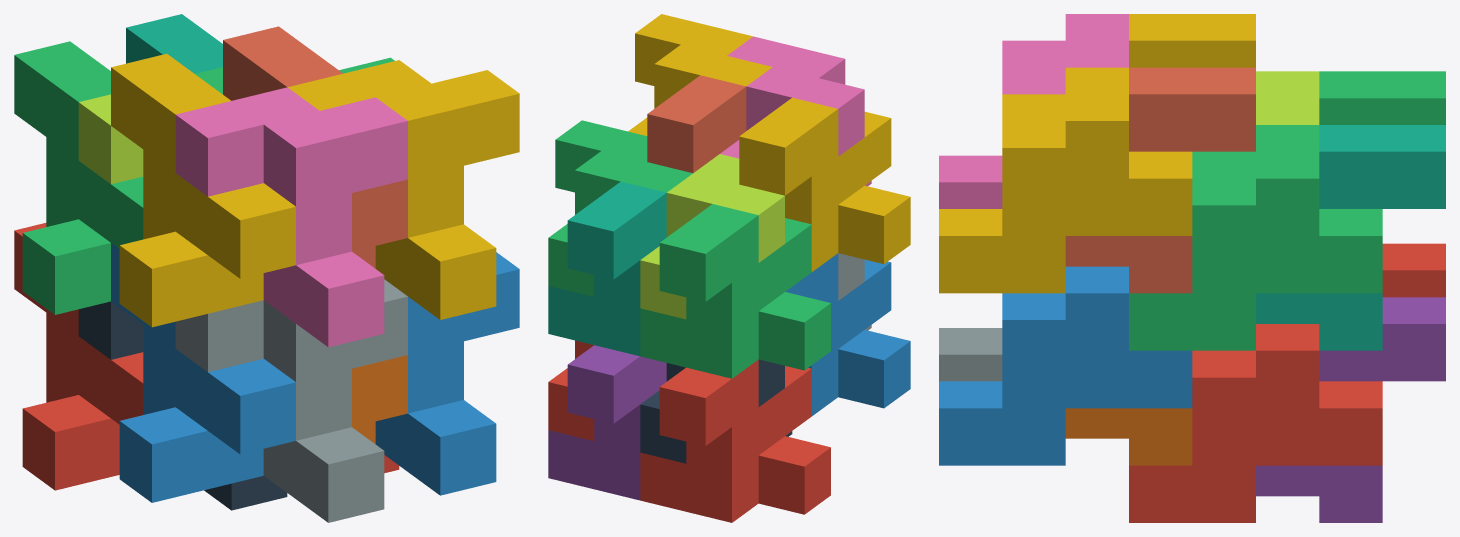
The model's file is tiling.obj.
3 renders of one model, left to right at view 1: azimuth 30°, elevation 25°; view 2: azimuth 150°, elevation 25°; view 3: azimuth 270°, elevation 25°, orthographic. The views are drawn at different scales.
Visible parts, largest first — view 1: copy_2_domain_4, copy_1_domain_4, copy_2_domain_8, copy_2_domain_2, copy_1_domain_2, copy_1_domain_3, copy_2_domain_6, copy_1_domain_1, copy_1_domain_8, copy_2_domain_1, copy_2_domain_3, copy_1_domain_7 (+2 smaller); view 2: copy_1_domain_3, copy_1_domain_1, copy_1_domain_4, copy_1_domain_7, copy_1_domain_5, copy_1_domain_2, copy_2_domain_7, copy_2_domain_4, copy_2_domain_3, copy_2_domain_8, copy_1_domain_8, copy_2_domain_1 (+2 smaller); view 3: copy_2_domain_8, copy_2_domain_7, copy_2_domain_6, copy_2_domain_5, copy_1_domain_8, copy_1_domain_7, copy_1_domain_5, copy_2_domain_4, copy_1_domain_3, copy_1_domain_4, copy_1_domain_6, copy_1_domain_1 (+2 smaller).
Boxes of the visible parts, bbox=[...] form: copy_2_domain_4: bbox=[175, 87, 407, 347]; copy_1_domain_4: bbox=[111, 53, 295, 327]; copy_2_domain_8: bbox=[288, 60, 519, 319]; copy_2_domain_2: bbox=[175, 279, 407, 522]; copy_1_domain_2: bbox=[111, 243, 295, 502]; copy_1_domain_3: bbox=[14, 41, 143, 314]; copy_2_domain_6: bbox=[375, 252, 519, 495]; copy_1_domain_1: bbox=[14, 223, 143, 490]; copy_1_domain_8: bbox=[223, 26, 407, 268]; copy_2_domain_1: bbox=[78, 301, 287, 510]; copy_2_domain_3: bbox=[78, 94, 143, 184]; copy_1_domain_7: bbox=[126, 14, 222, 73]; copy_1_domain_3: bbox=[640, 204, 830, 378]; copy_1_domain_1: bbox=[640, 359, 830, 522]; copy_1_domain_4: bbox=[739, 97, 910, 271]; copy_1_domain_7: bbox=[548, 181, 666, 356]; copy_1_domain_5: bbox=[548, 345, 666, 500]; copy_1_domain_2: bbox=[785, 253, 910, 416]; copy_2_domain_7: bbox=[548, 120, 692, 296]; copy_2_domain_4: bbox=[720, 36, 871, 186]; copy_2_domain_3: bbox=[640, 154, 784, 319]; copy_2_domain_8: bbox=[628, 14, 772, 135]; copy_1_domain_8: bbox=[647, 75, 746, 173]; copy_2_domain_1: bbox=[640, 359, 792, 463]; copy_2_domain_8: bbox=[939, 67, 1192, 293]; copy_2_domain_7: bbox=[1129, 125, 1382, 350]; copy_2_domain_6: bbox=[939, 266, 1192, 465]; copy_2_domain_5: bbox=[1129, 324, 1382, 522]; copy_1_domain_8: bbox=[1065, 67, 1255, 293]; copy_1_domain_7: bbox=[1256, 125, 1445, 350]; copy_1_domain_5: bbox=[1256, 297, 1445, 522]; copy_2_domain_4: bbox=[939, 14, 1128, 208]; copy_1_domain_3: bbox=[1319, 71, 1445, 124]; copy_1_domain_4: bbox=[1129, 14, 1255, 67]; copy_1_domain_6: bbox=[1065, 408, 1192, 465]; copy_1_domain_1: bbox=[1382, 243, 1445, 297].
Size of the model in its own units: 6 by 7 by 8.
